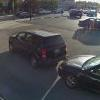Car: (55, 39, 100, 100)
